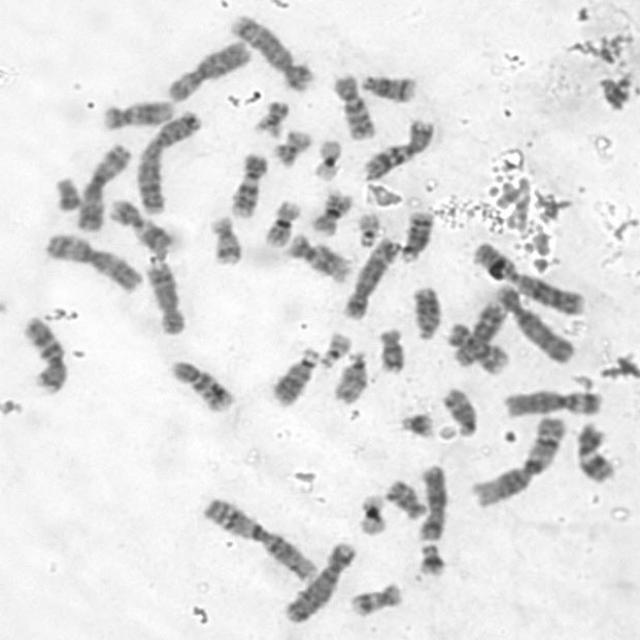A1: (197, 492, 320, 582), (466, 412, 568, 508)
A2: (468, 237, 589, 318), (133, 107, 204, 215)
A3: (42, 229, 144, 295), (72, 138, 133, 232)
B4: (493, 280, 580, 366), (278, 536, 359, 626)
B5: (228, 12, 317, 92), (338, 233, 400, 321)
C10: (166, 357, 234, 413), (327, 69, 378, 142)
C11: (105, 193, 176, 256), (571, 417, 619, 485)
C12: (284, 230, 356, 284), (97, 94, 177, 132)
C6: (163, 36, 252, 103), (499, 384, 605, 419)
C7: (358, 114, 438, 182), (15, 311, 70, 396)
C8: (448, 298, 508, 369), (141, 256, 188, 336)
C9: (442, 319, 512, 377), (227, 148, 270, 219)
D13: (267, 344, 323, 408), (407, 283, 443, 342)
D14: (396, 207, 437, 264), (358, 71, 418, 104)
D15: (437, 384, 480, 438), (329, 348, 369, 405)
E16: (259, 195, 303, 249), (307, 190, 355, 237)
E17: (345, 577, 406, 618), (205, 212, 243, 268)
E18: (381, 476, 428, 522), (374, 324, 406, 374)
F19: (354, 491, 388, 537), (310, 136, 343, 182)
F20: (268, 125, 313, 168), (252, 97, 292, 137)
G21: (414, 539, 449, 579), (395, 408, 437, 440)
G22: (316, 330, 352, 370), (354, 208, 382, 248)
X: (414, 461, 449, 542)
Y: (51, 173, 84, 212)
